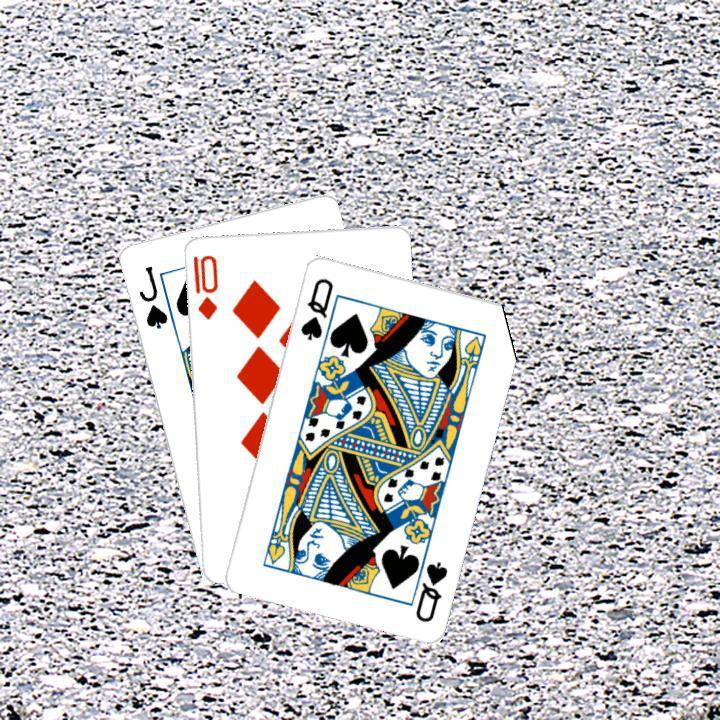10: (187, 250, 219, 321)
J: (133, 261, 169, 331)
Q: (295, 273, 335, 342), (410, 556, 450, 624)
